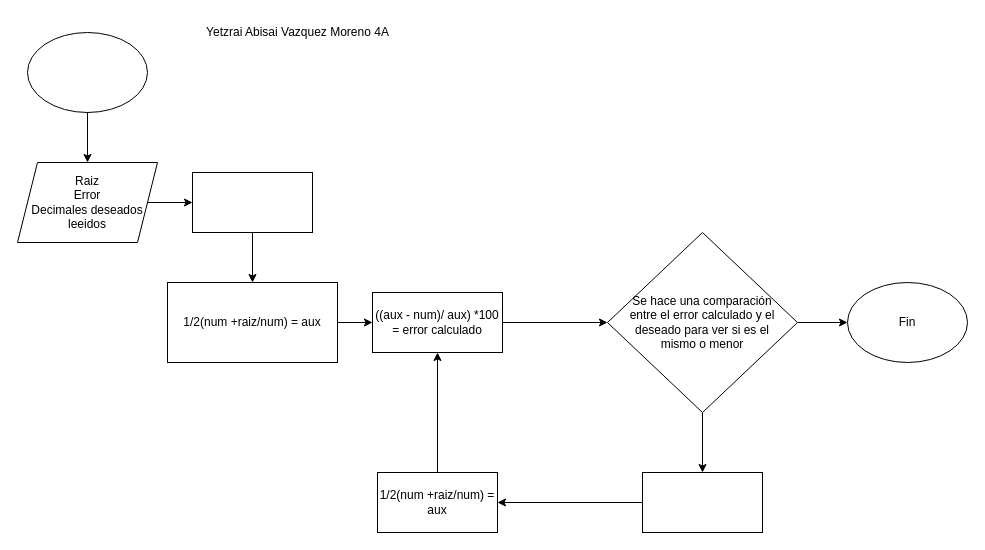
The diagram is 985 pixels wide and 550 high, and some of its shapes have lost their labels. The shapes that lost their labels are listed below. From the top down, each one's centre as x and y in pixels, then its label:
[87,72]: Inicio
[252,202]: Se saca num por medio de multiplicaciones hasta aproximarse a la raíz
[702,502]: num = aux
